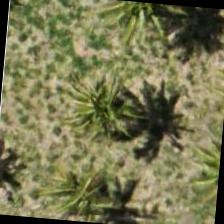Kelapa_Sawit: (102, 68, 200, 166), (66, 161, 162, 223), (140, 2, 223, 65), (0, 113, 49, 208)
